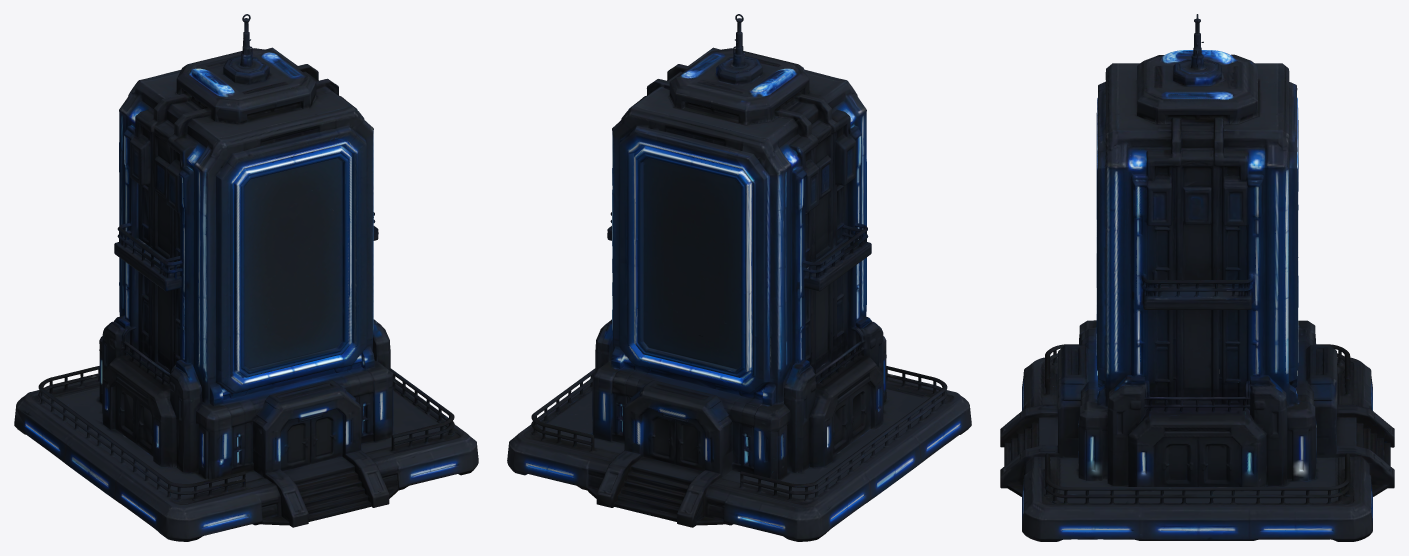
The model's file is connect.v3.glb.
3 views of the same model, side by side, from view 1: azimuth 30°, elevation 25°; view 2: azimuth 150°, elevation 25°; view 3: azimuth 270°, elevation 25° (orthographic). The views are drawn at different scales.
Parts seen in each view (by area): view 1: Mesh_0; view 2: Mesh_0; view 3: Mesh_0.
Part boxes in pixels (x1,y1,x2,y2): Mesh_0: (14,14,478,541); Mesh_0: (507,14,971,541); Mesh_0: (1000,14,1394,541).
Size of the model in its own units: 0.6513 by 0.857 by 0.6813.
1 material, 1 textured.
